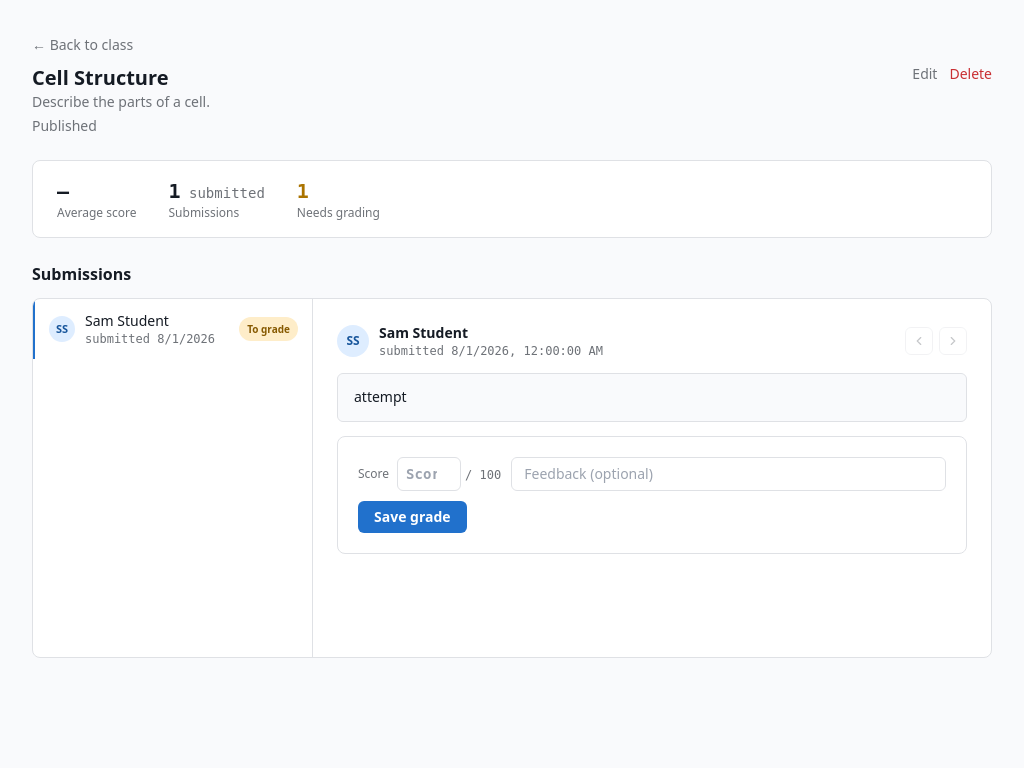
Test: AssignmentDetailPage › shows an error when grading fails
Expected: the 1st text "Sam Student" is shown, [85, 311, 169, 330]
Type "50" into the number field with placeholder "Score" at [429, 474], box [397, 457, 461, 491]
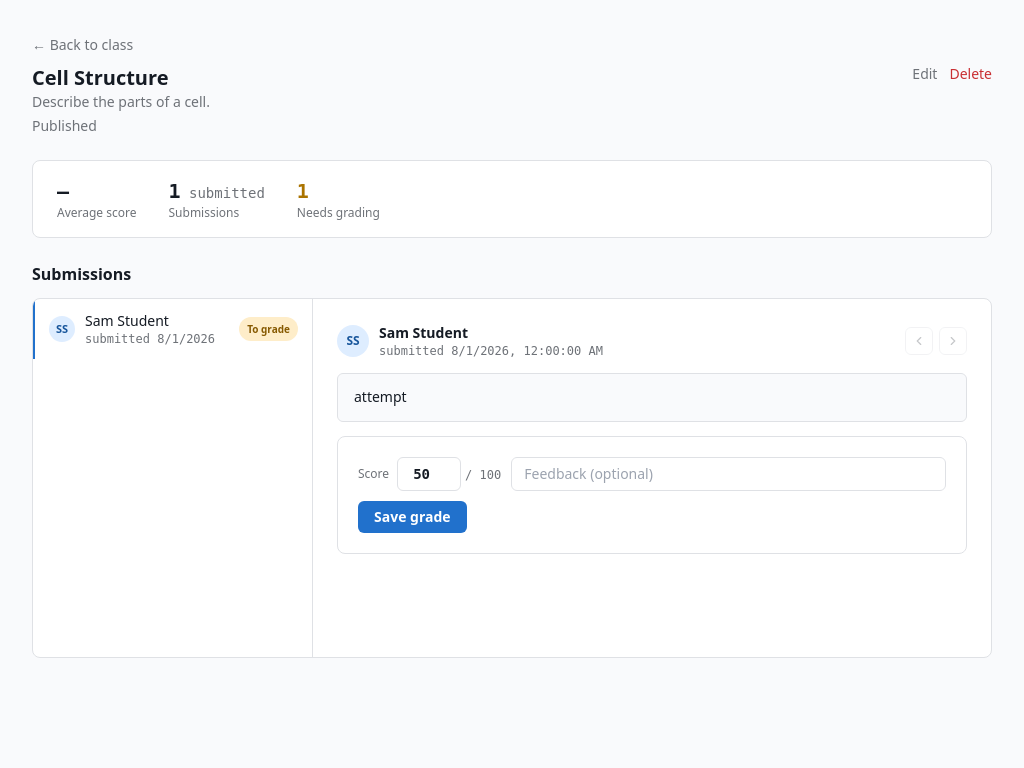
Click the button "Save grade" at [412, 517], box [358, 501, 467, 533]
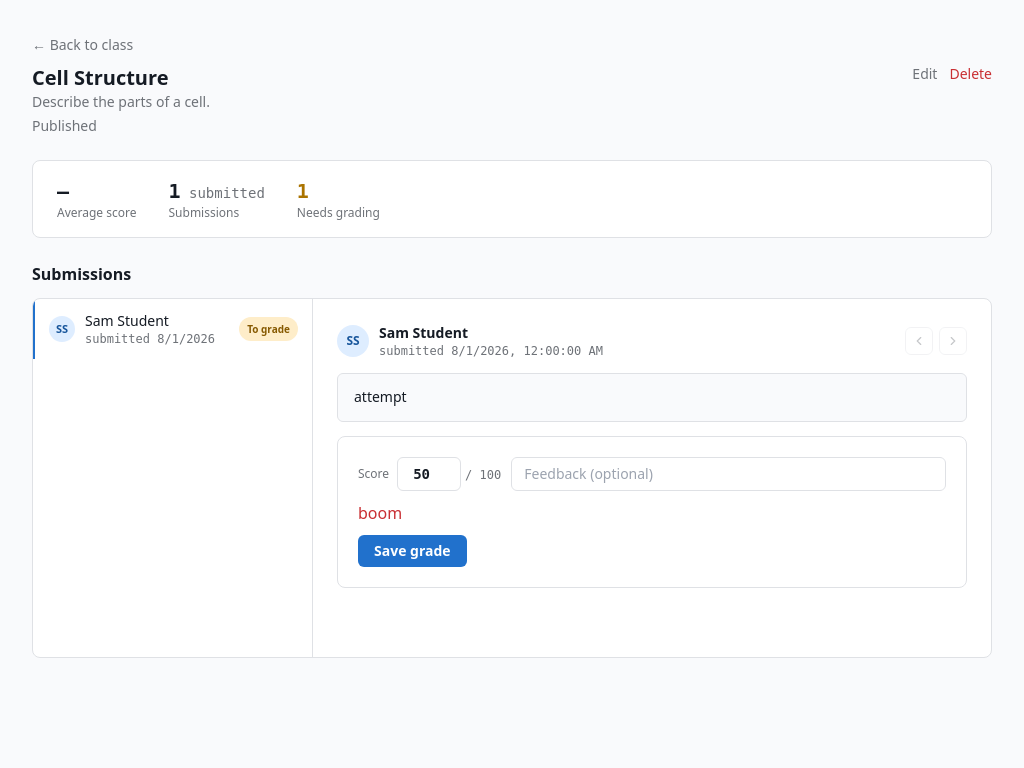
Result: the message reads "boom" at [358, 502, 402, 524]
